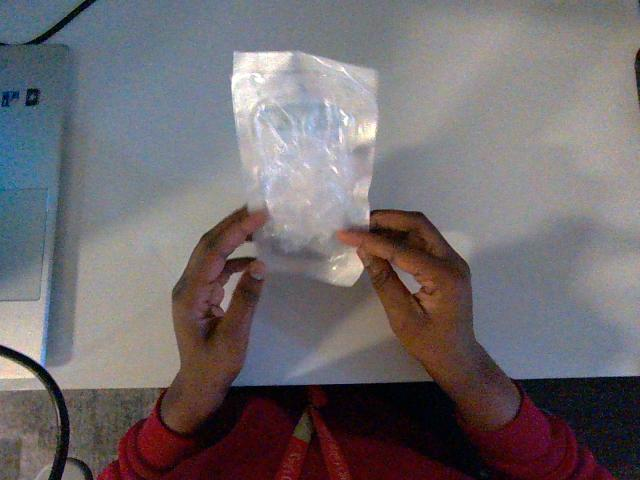gallipot: (232, 52, 377, 285)
